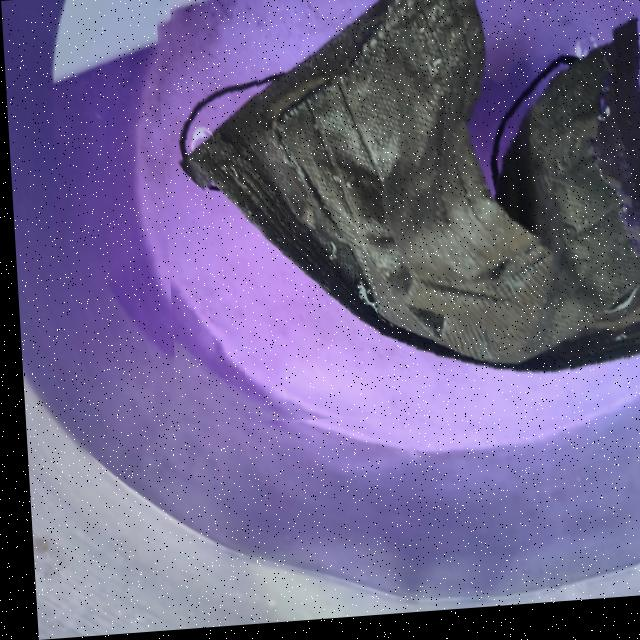litter: (151, 0, 640, 444)
